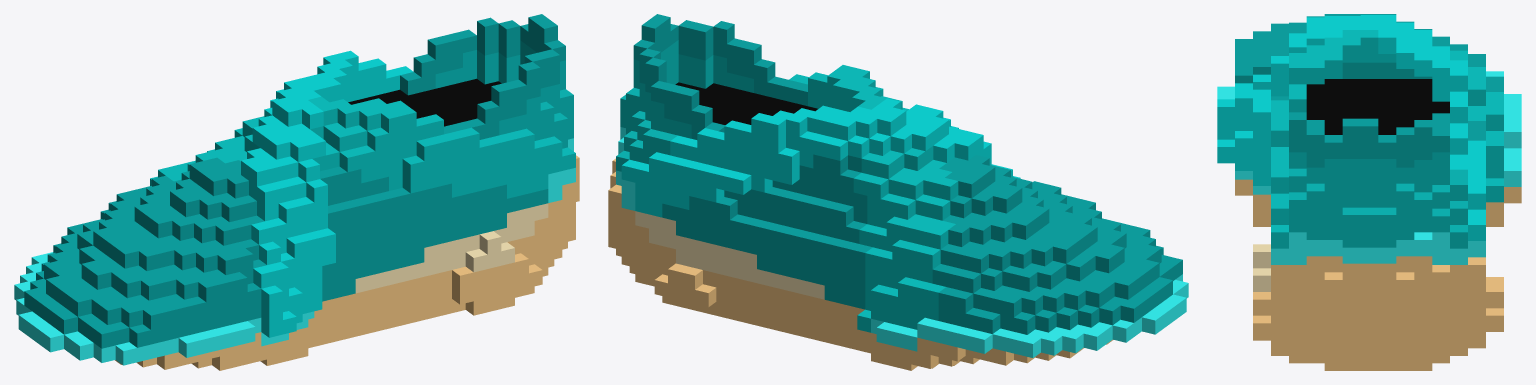
File: Clear Sky.fbx
3 views of the same model, side by side, from view 1: azimuth 30°, elevation 25°; view 2: azimuth 150°, elevation 25°; view 3: azimuth 270°, elevation 25° (orthographic). The views are drawn at different scales.
Visible parts, largest first — view 1: Untitled; view 2: Untitled; view 3: Untitled.
Boxes of the visible parts, x1=… form: Untitled: x1=14, y1=14, x2=579, y2=370; Untitled: x1=608, y1=14, x2=1188, y2=370; Untitled: x1=1217, y1=14, x2=1521, y2=370.
Size of the model in its own units: 390 by 160 by 170.
